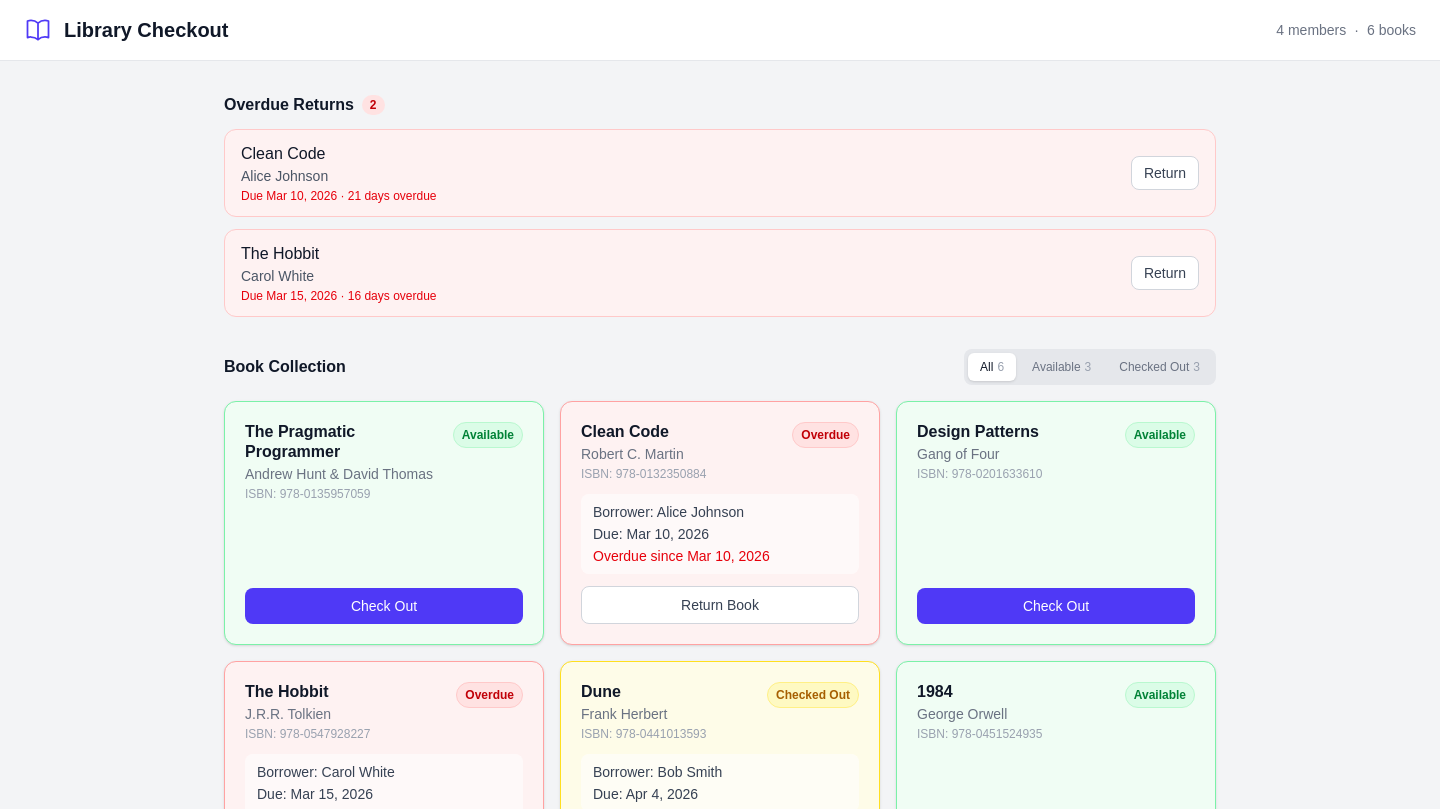
HomeView › tab filtering › shows all books again when All tab is clicked
The image size is (1440, 809).
Click the button "Checked Out3" at (1160, 367), box [1107, 353, 1212, 381]
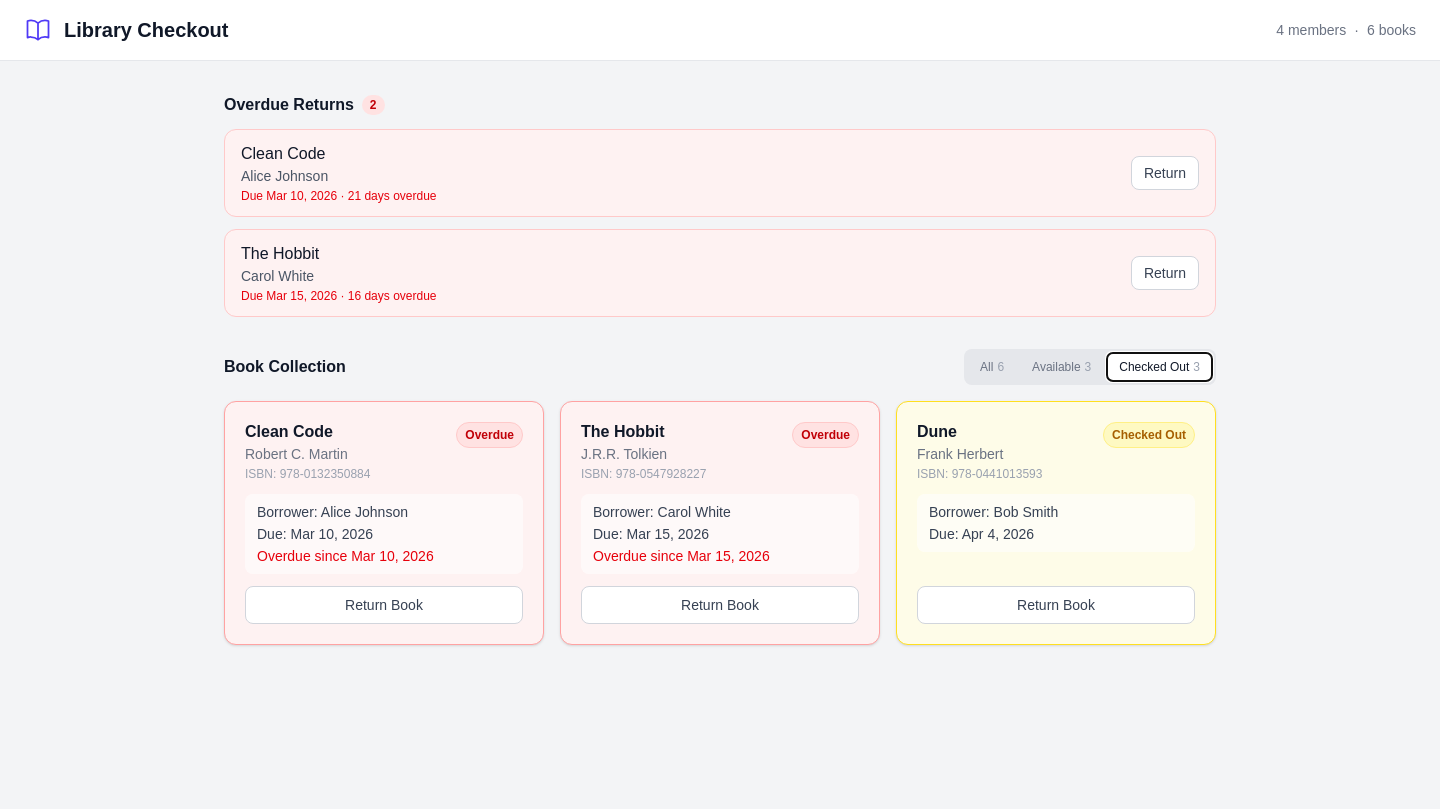
Click the button "All6" at (992, 367), box [968, 353, 1016, 381]
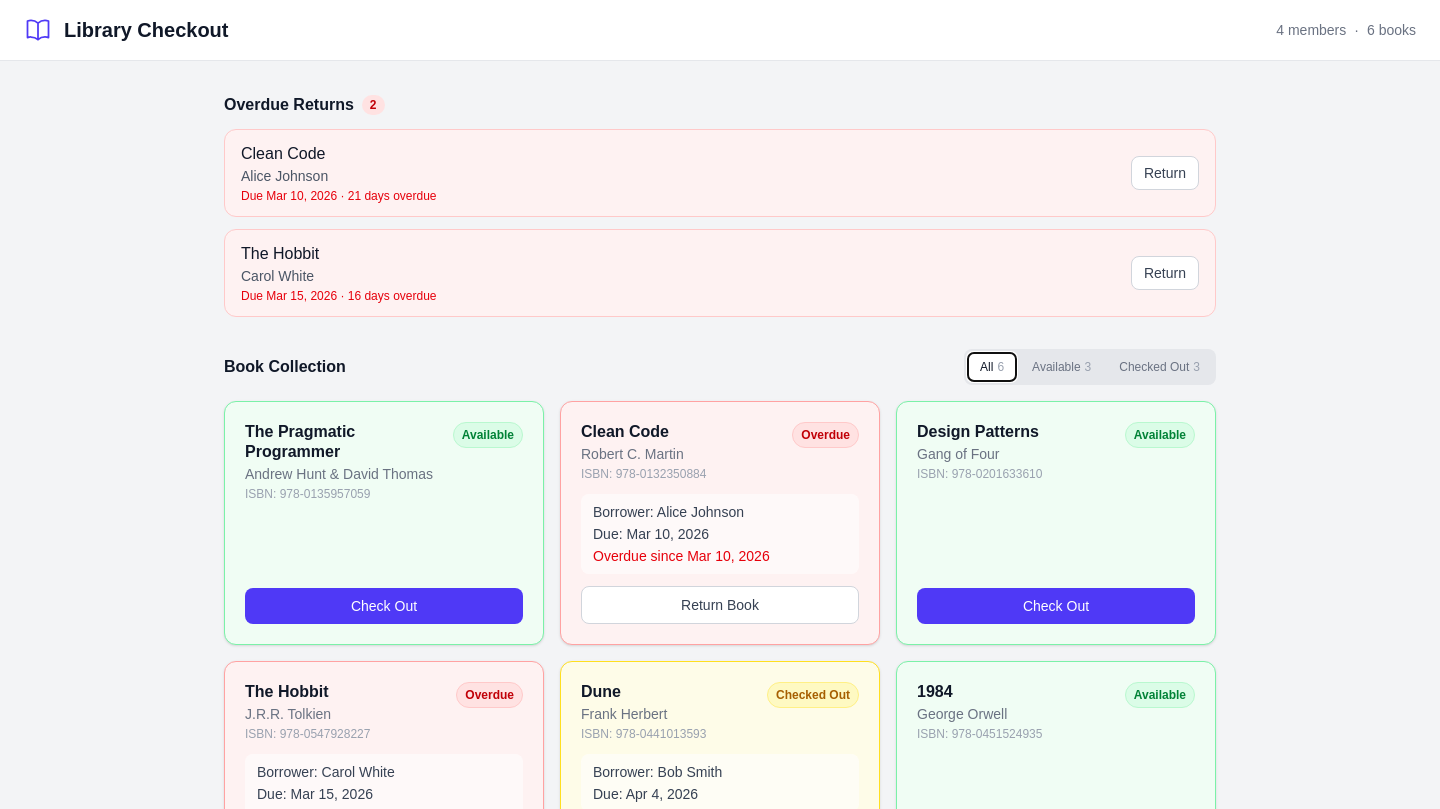
Result: the heading "The Pragmatic Programmer" is shown at [245, 423, 355, 460]
Result: the heading "Design Patterns" is shown at [917, 422, 1042, 442]
Result: the heading "1984" is shown at [917, 683, 953, 700]
